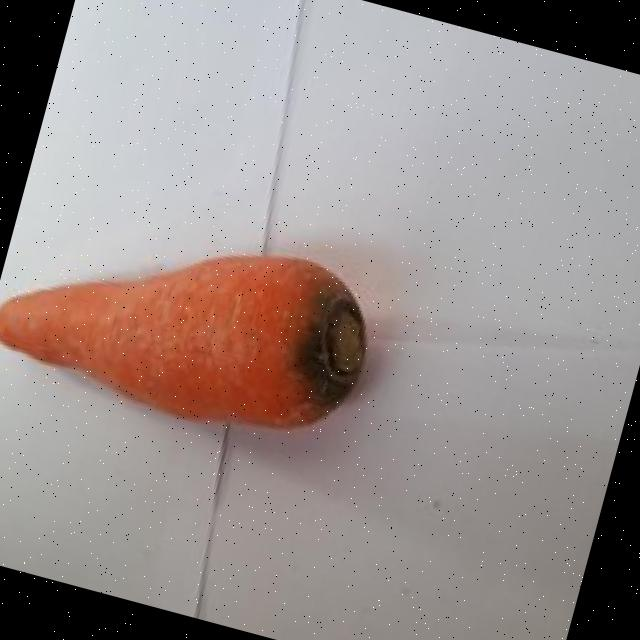carrot: (0, 255, 366, 428)
